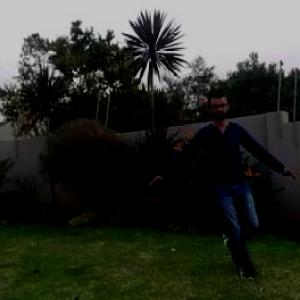land: (144, 93, 286, 266)
